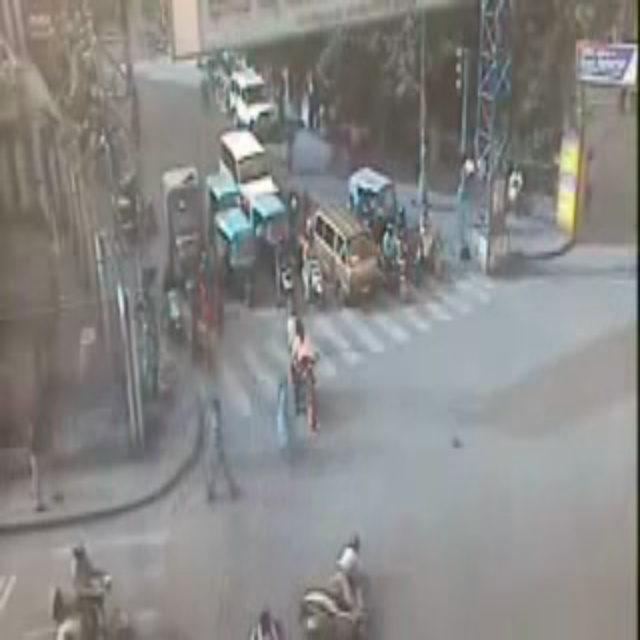acc: (285, 514, 375, 634)
